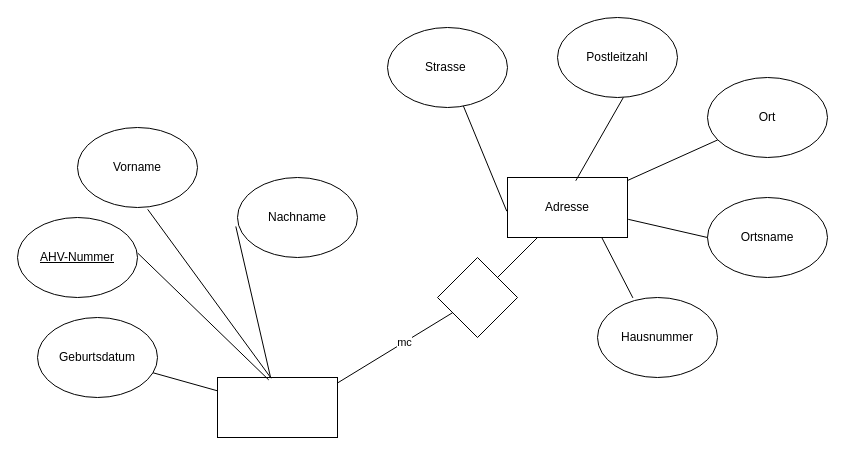
Some shapes in this 845 by 455 pixel diagram are drawn without their labels. The centre of each missing label's shape, as x and y in pixels:
"Person" belongs at [277,407].
"wohnt" belongs at [477,297].
